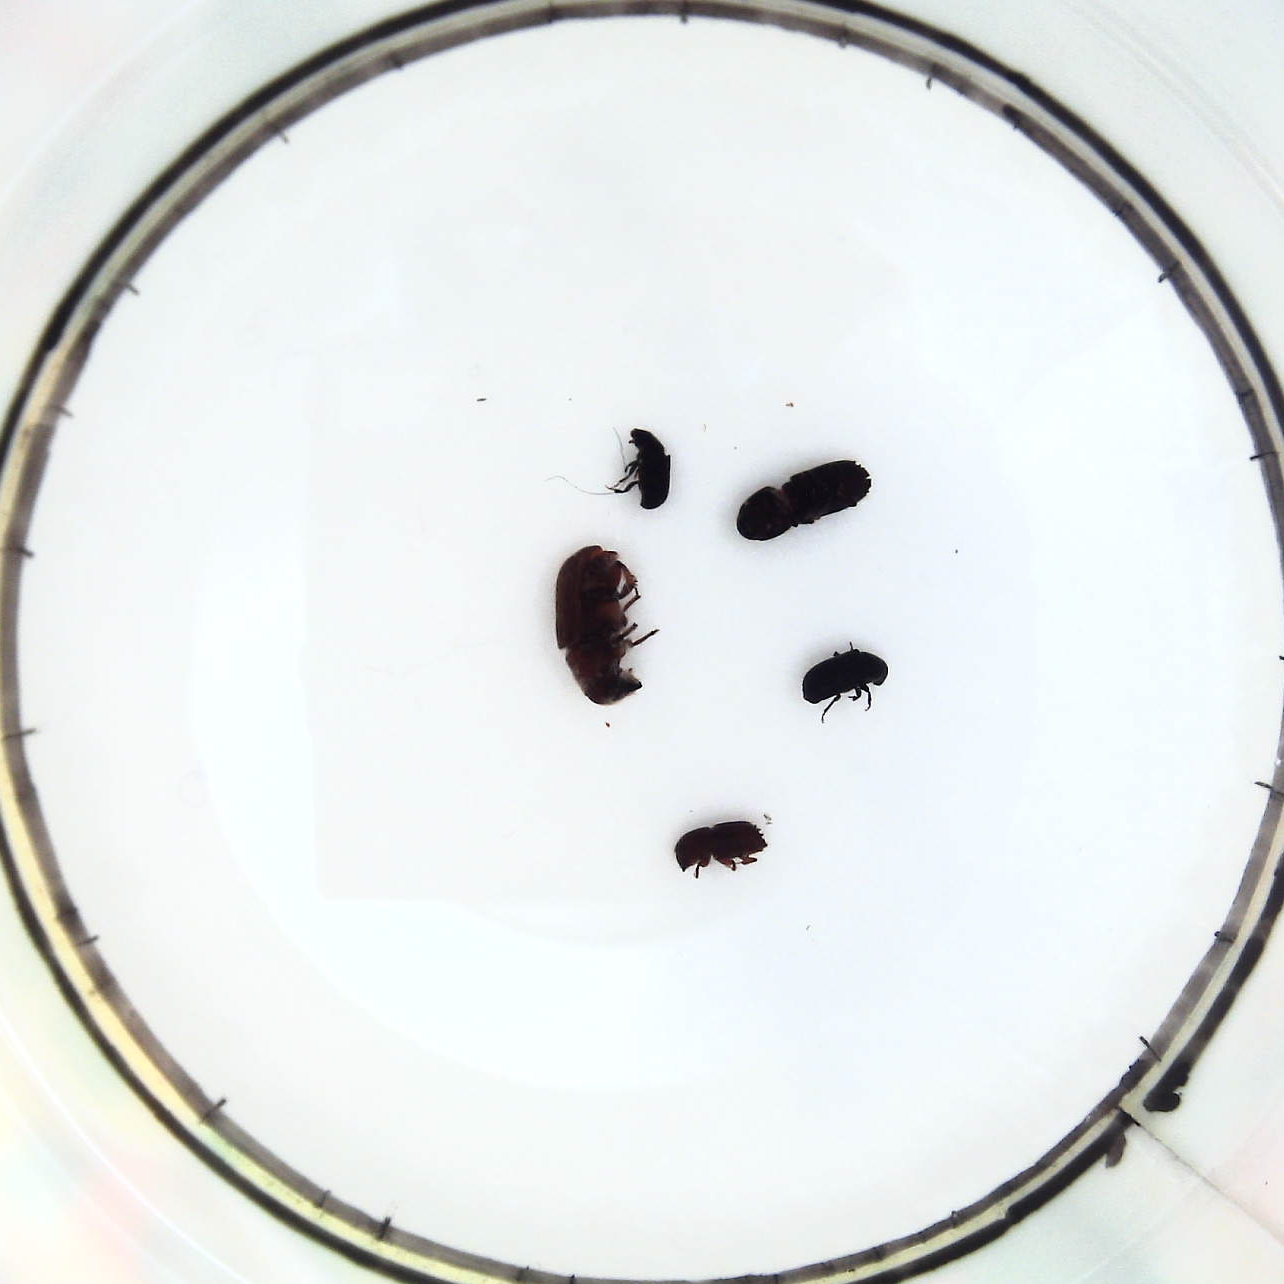Boerner: (736, 460, 875, 547)
Leconte: (551, 539, 656, 711)
armandi: (797, 643, 895, 723)
coleoptera: (609, 421, 678, 513)
linnaeus: (668, 818, 770, 877)
